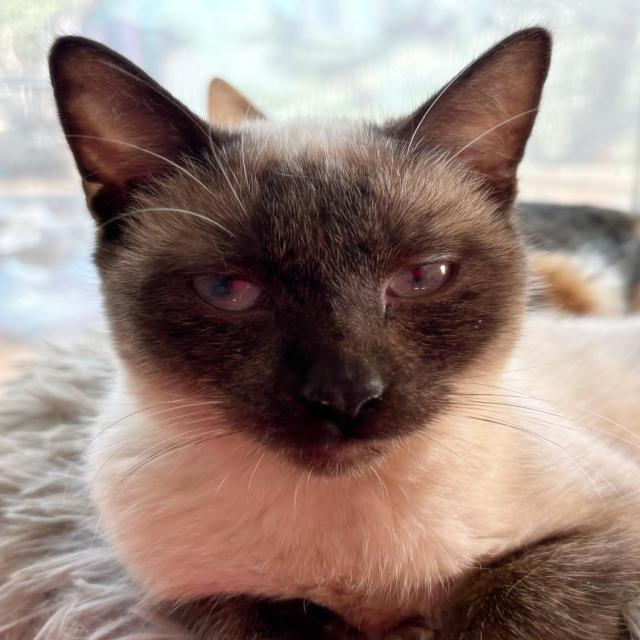siamese_cat: (29, 11, 576, 505)
